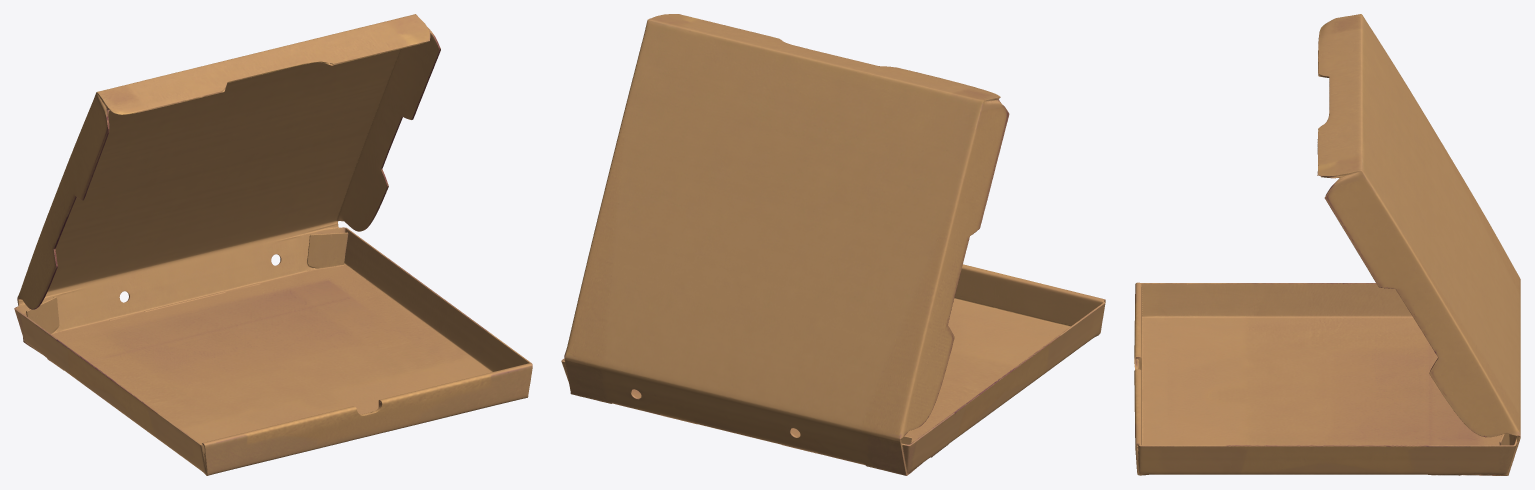
Rendered from Pizza_Box.glb.
3 renders of one model, left to right at view 1: azimuth 30°, elevation 25°; view 2: azimuth 150°, elevation 25°; view 3: azimuth 270°, elevation 25°, orthographic. The views are drawn at different scales.
Size of the model in its own units: 1.89 by 1.65 by 1.89.
Materials: 1 (1 with a texture image).
